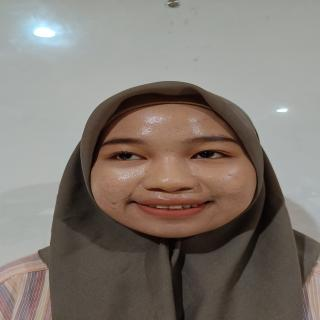Senang: (90, 98, 262, 242)
